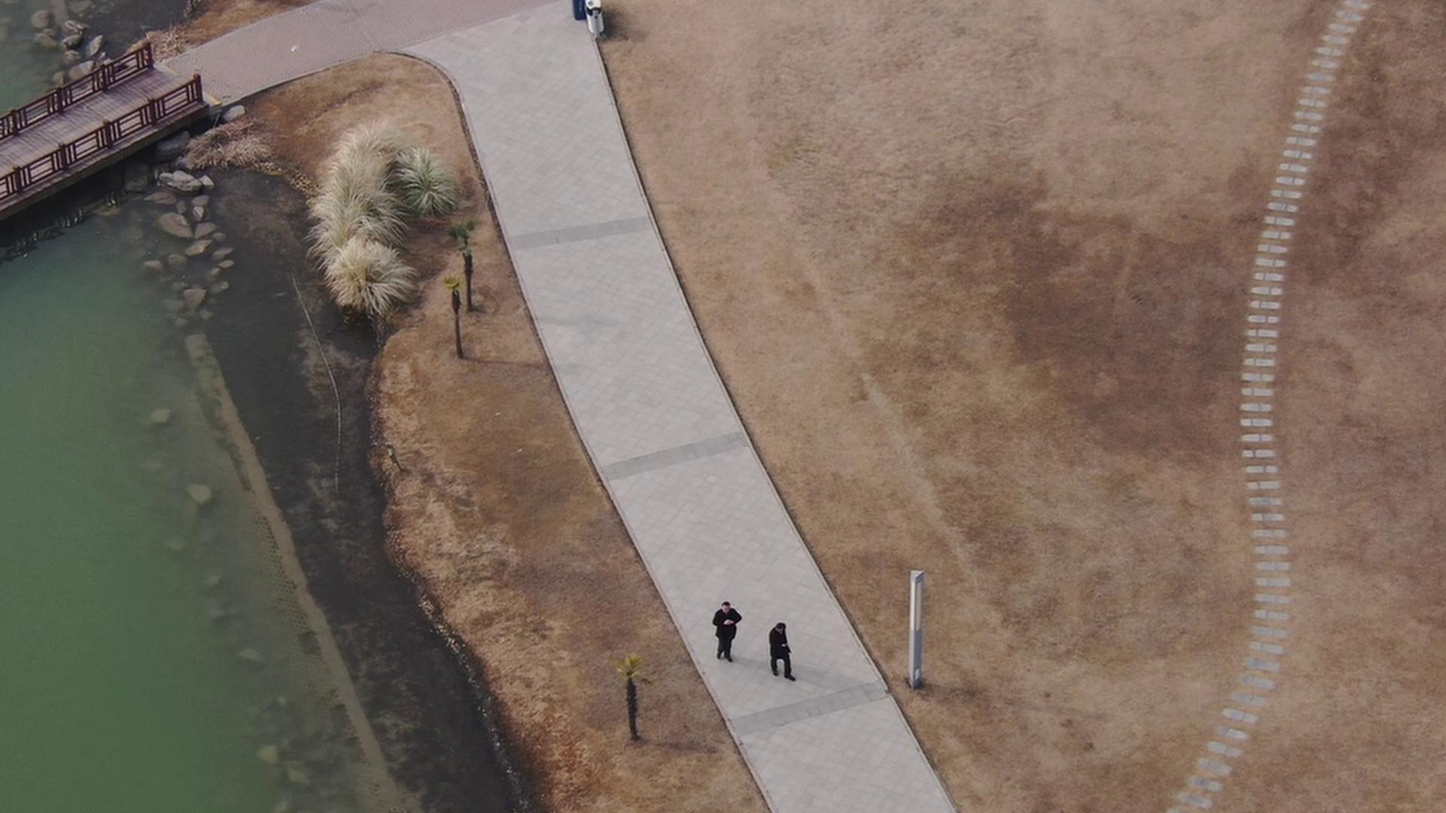human: (709, 609, 750, 671), (769, 620, 800, 690)
